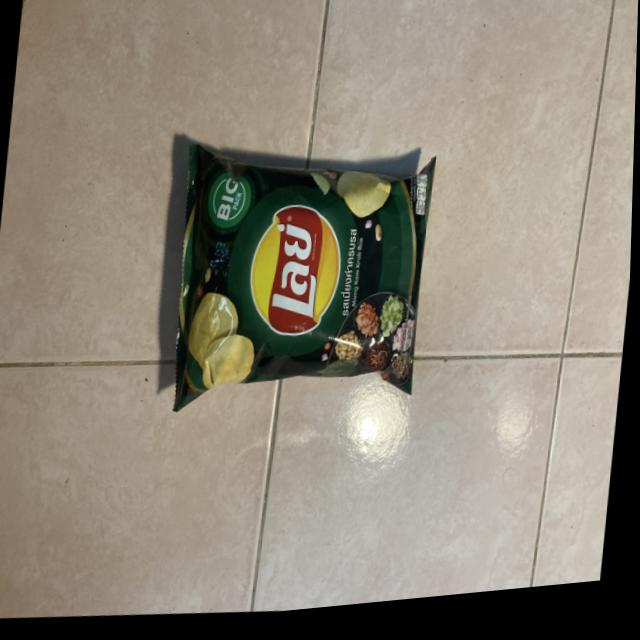Laygreen: (153, 92, 464, 444)
